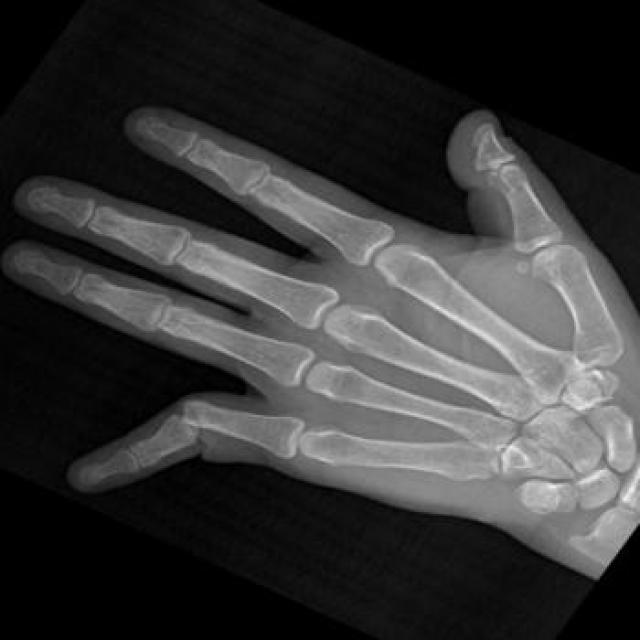Fracture: (159, 388, 213, 447)
